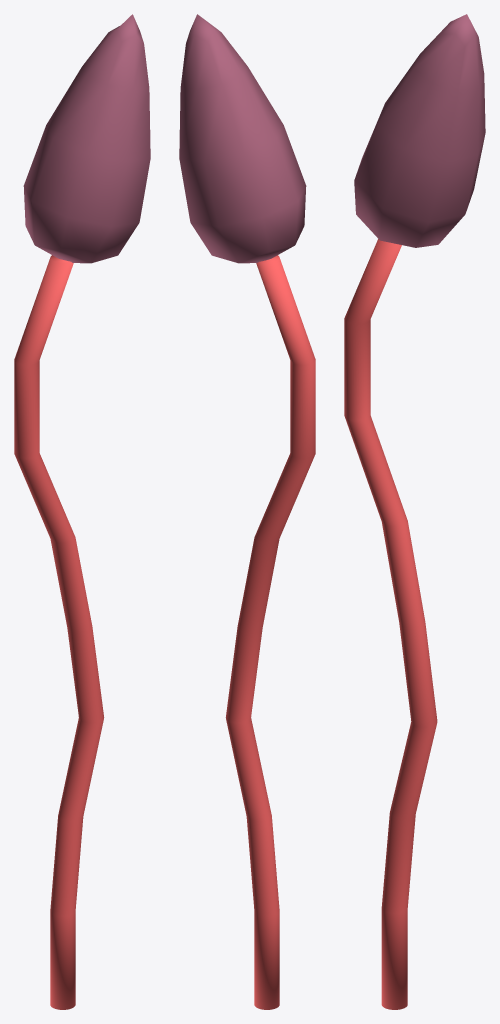
File: Alien_Plant_1.fbx
3 renders of one model, left to right at view 1: azimuth 30°, elevation 25°; view 2: azimuth 150°, elevation 25°; view 3: azimuth 330°, elevation 25°, orthographic. The views are drawn at different scales.
Visible parts, largest first — view 1: AlienPlant1; view 2: AlienPlant1; view 3: AlienPlant1.
Part boxes in pixels (<box>): AlienPlant1: <box>14,14,150,1009</box>; AlienPlant1: <box>179,14,315,1009</box>; AlienPlant1: <box>344,14,485,1009</box>.
Size of the model in its own units: 138 by 1000 by 112.
